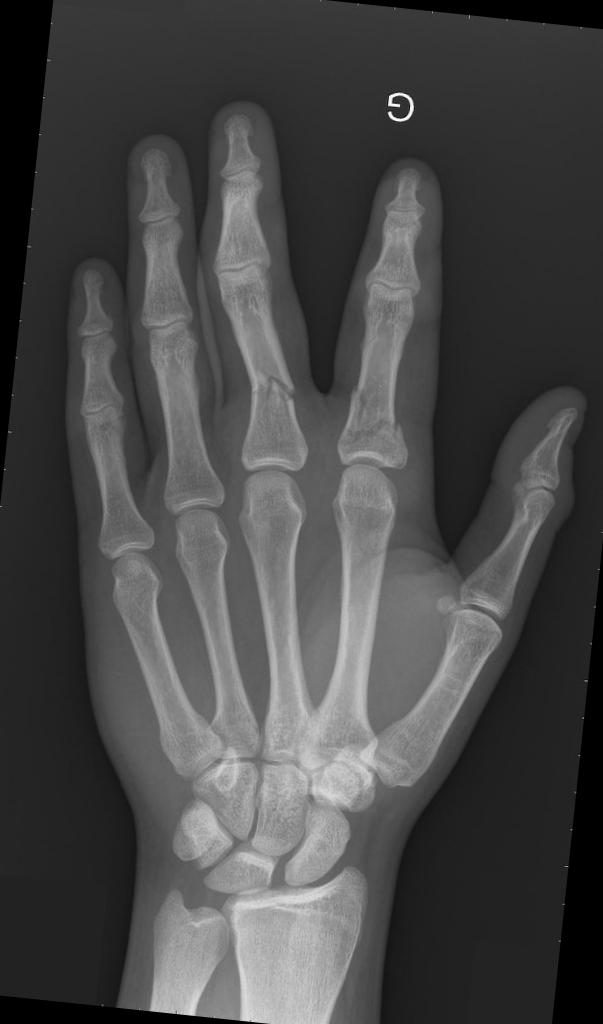fracture: (339, 380, 406, 448), (244, 366, 298, 406)
